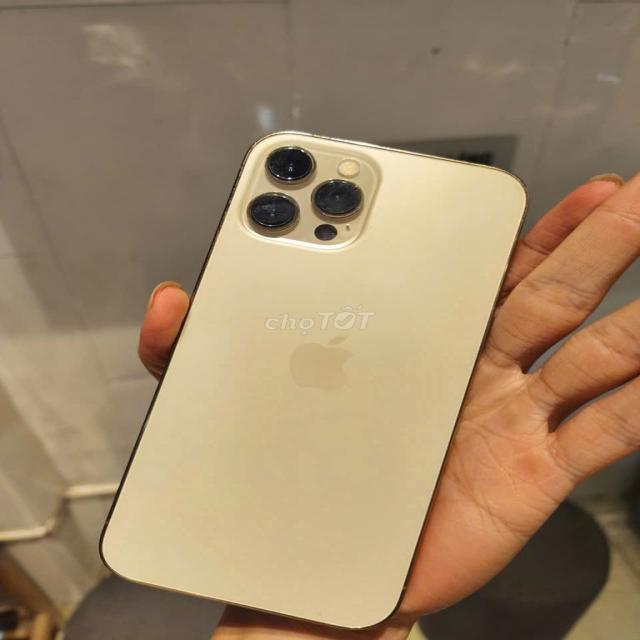gen_12_13: (96, 128, 534, 632)
